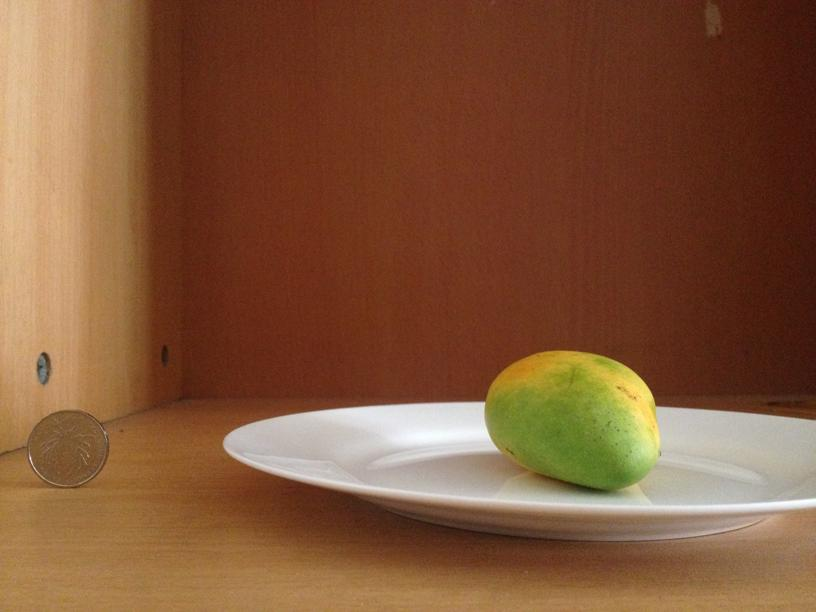coin: (25, 408, 108, 487)
mango: (483, 348, 662, 489)
